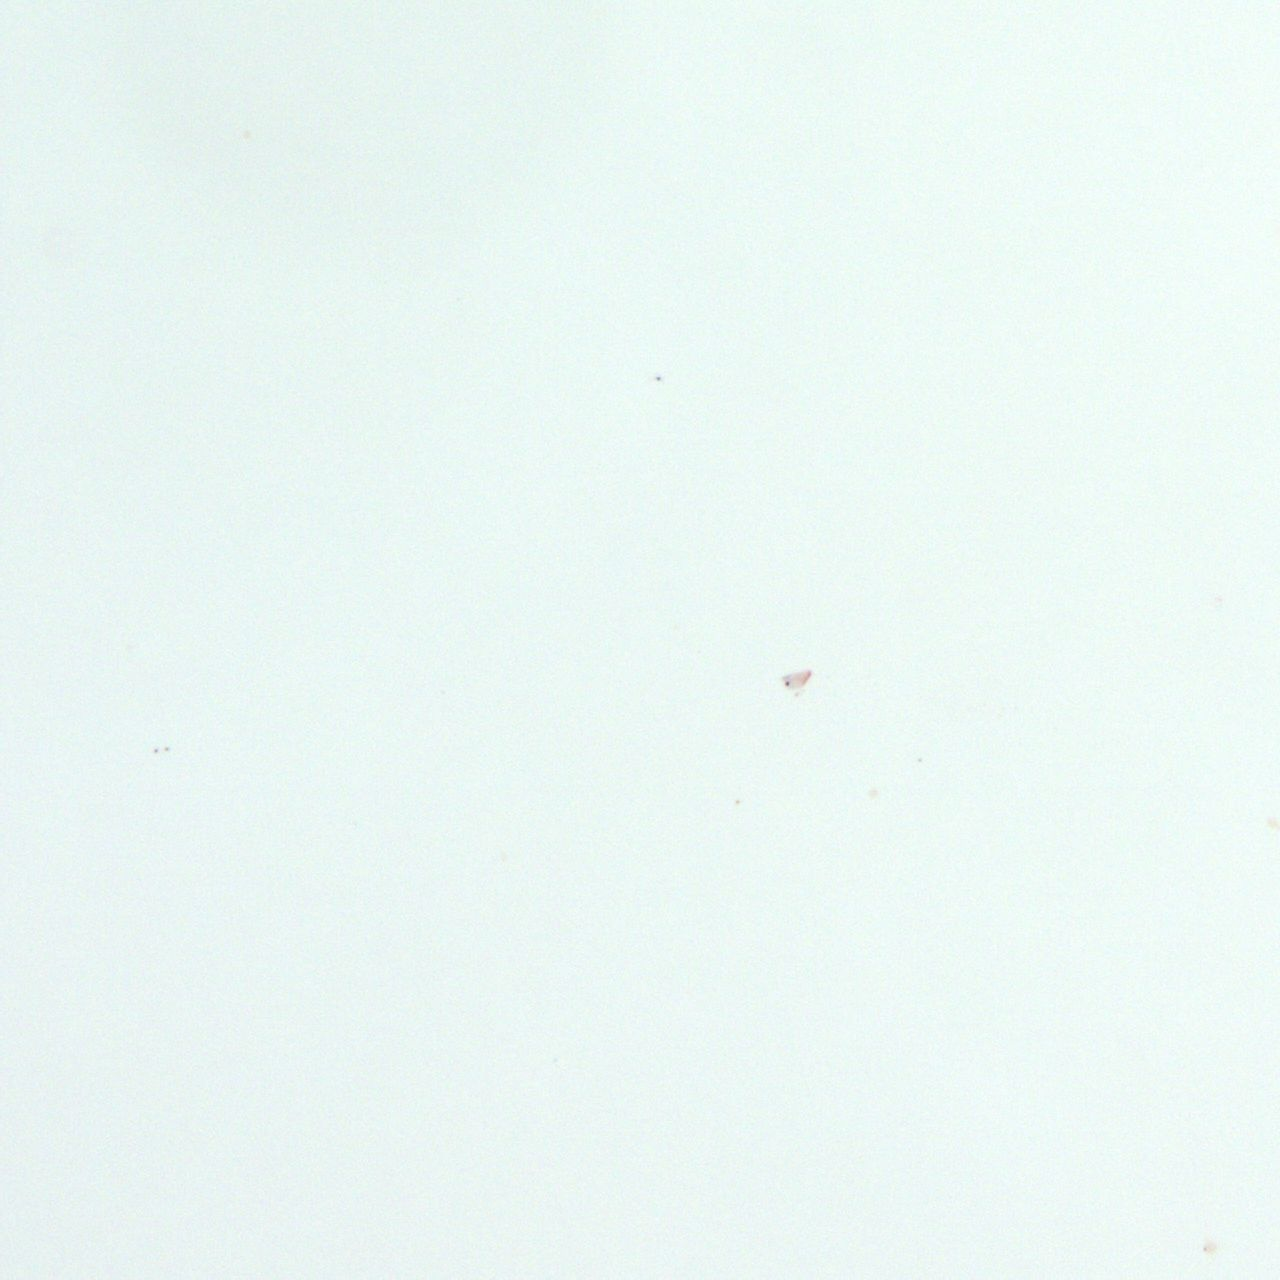dust: (794, 670, 812, 689), (776, 675, 795, 692), (731, 796, 742, 806), (653, 374, 662, 384), (915, 755, 925, 765), (1200, 1246, 1207, 1253), (152, 745, 157, 753), (163, 745, 166, 751)
